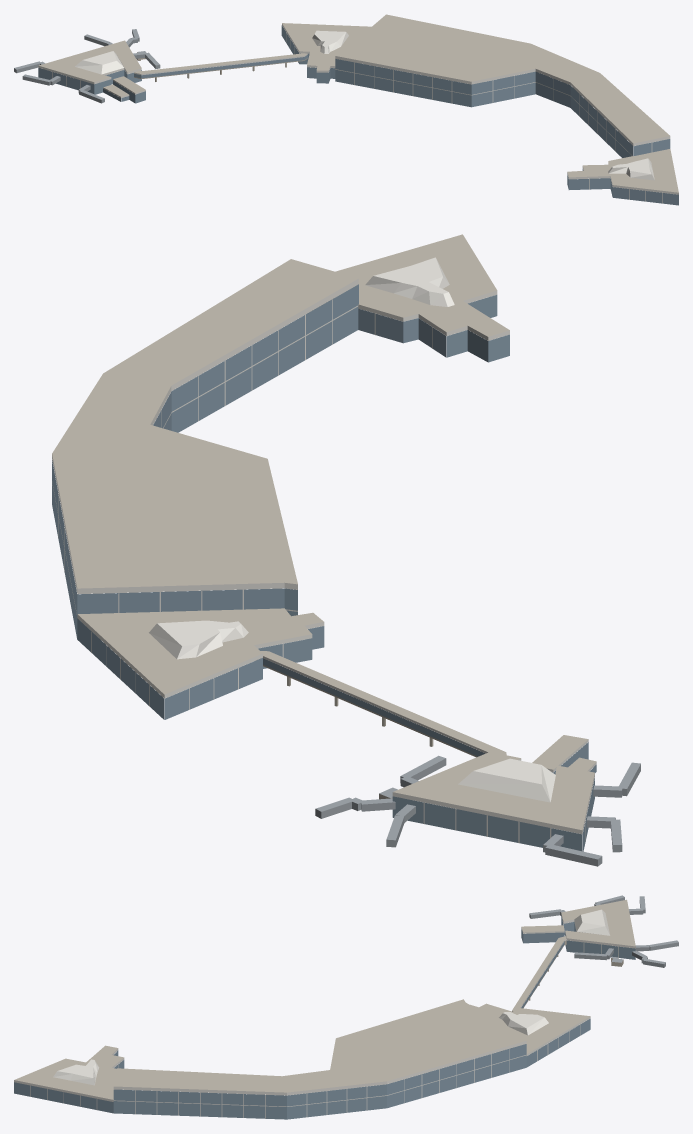
File: paris-cdg-terminal-1-satellites-t-w.glb
3 views of the same model, one above another, from view 1: azimuth 30°, elevation 25°; view 2: azimuth 150°, elevation 25°; view 3: azimuth 270°, elevation 25° (orthographic). The views are drawn at different scales.
Visible parts, largest first — view 1: Paris-CDG Terminal 1 Satellites T–W; view 2: Paris-CDG Terminal 1 Satellites T–W; view 3: Paris-CDG Terminal 1 Satellites T–W.
Part boxes in pixels (x1,y1,x2,y2): Paris-CDG Terminal 1 Satellites T–W: [14, 14, 678, 205]; Paris-CDG Terminal 1 Satellites T–W: [52, 234, 640, 866]; Paris-CDG Terminal 1 Satellites T–W: [14, 895, 678, 1119].
Size of the model in its own units: 343 by 20 by 447.
